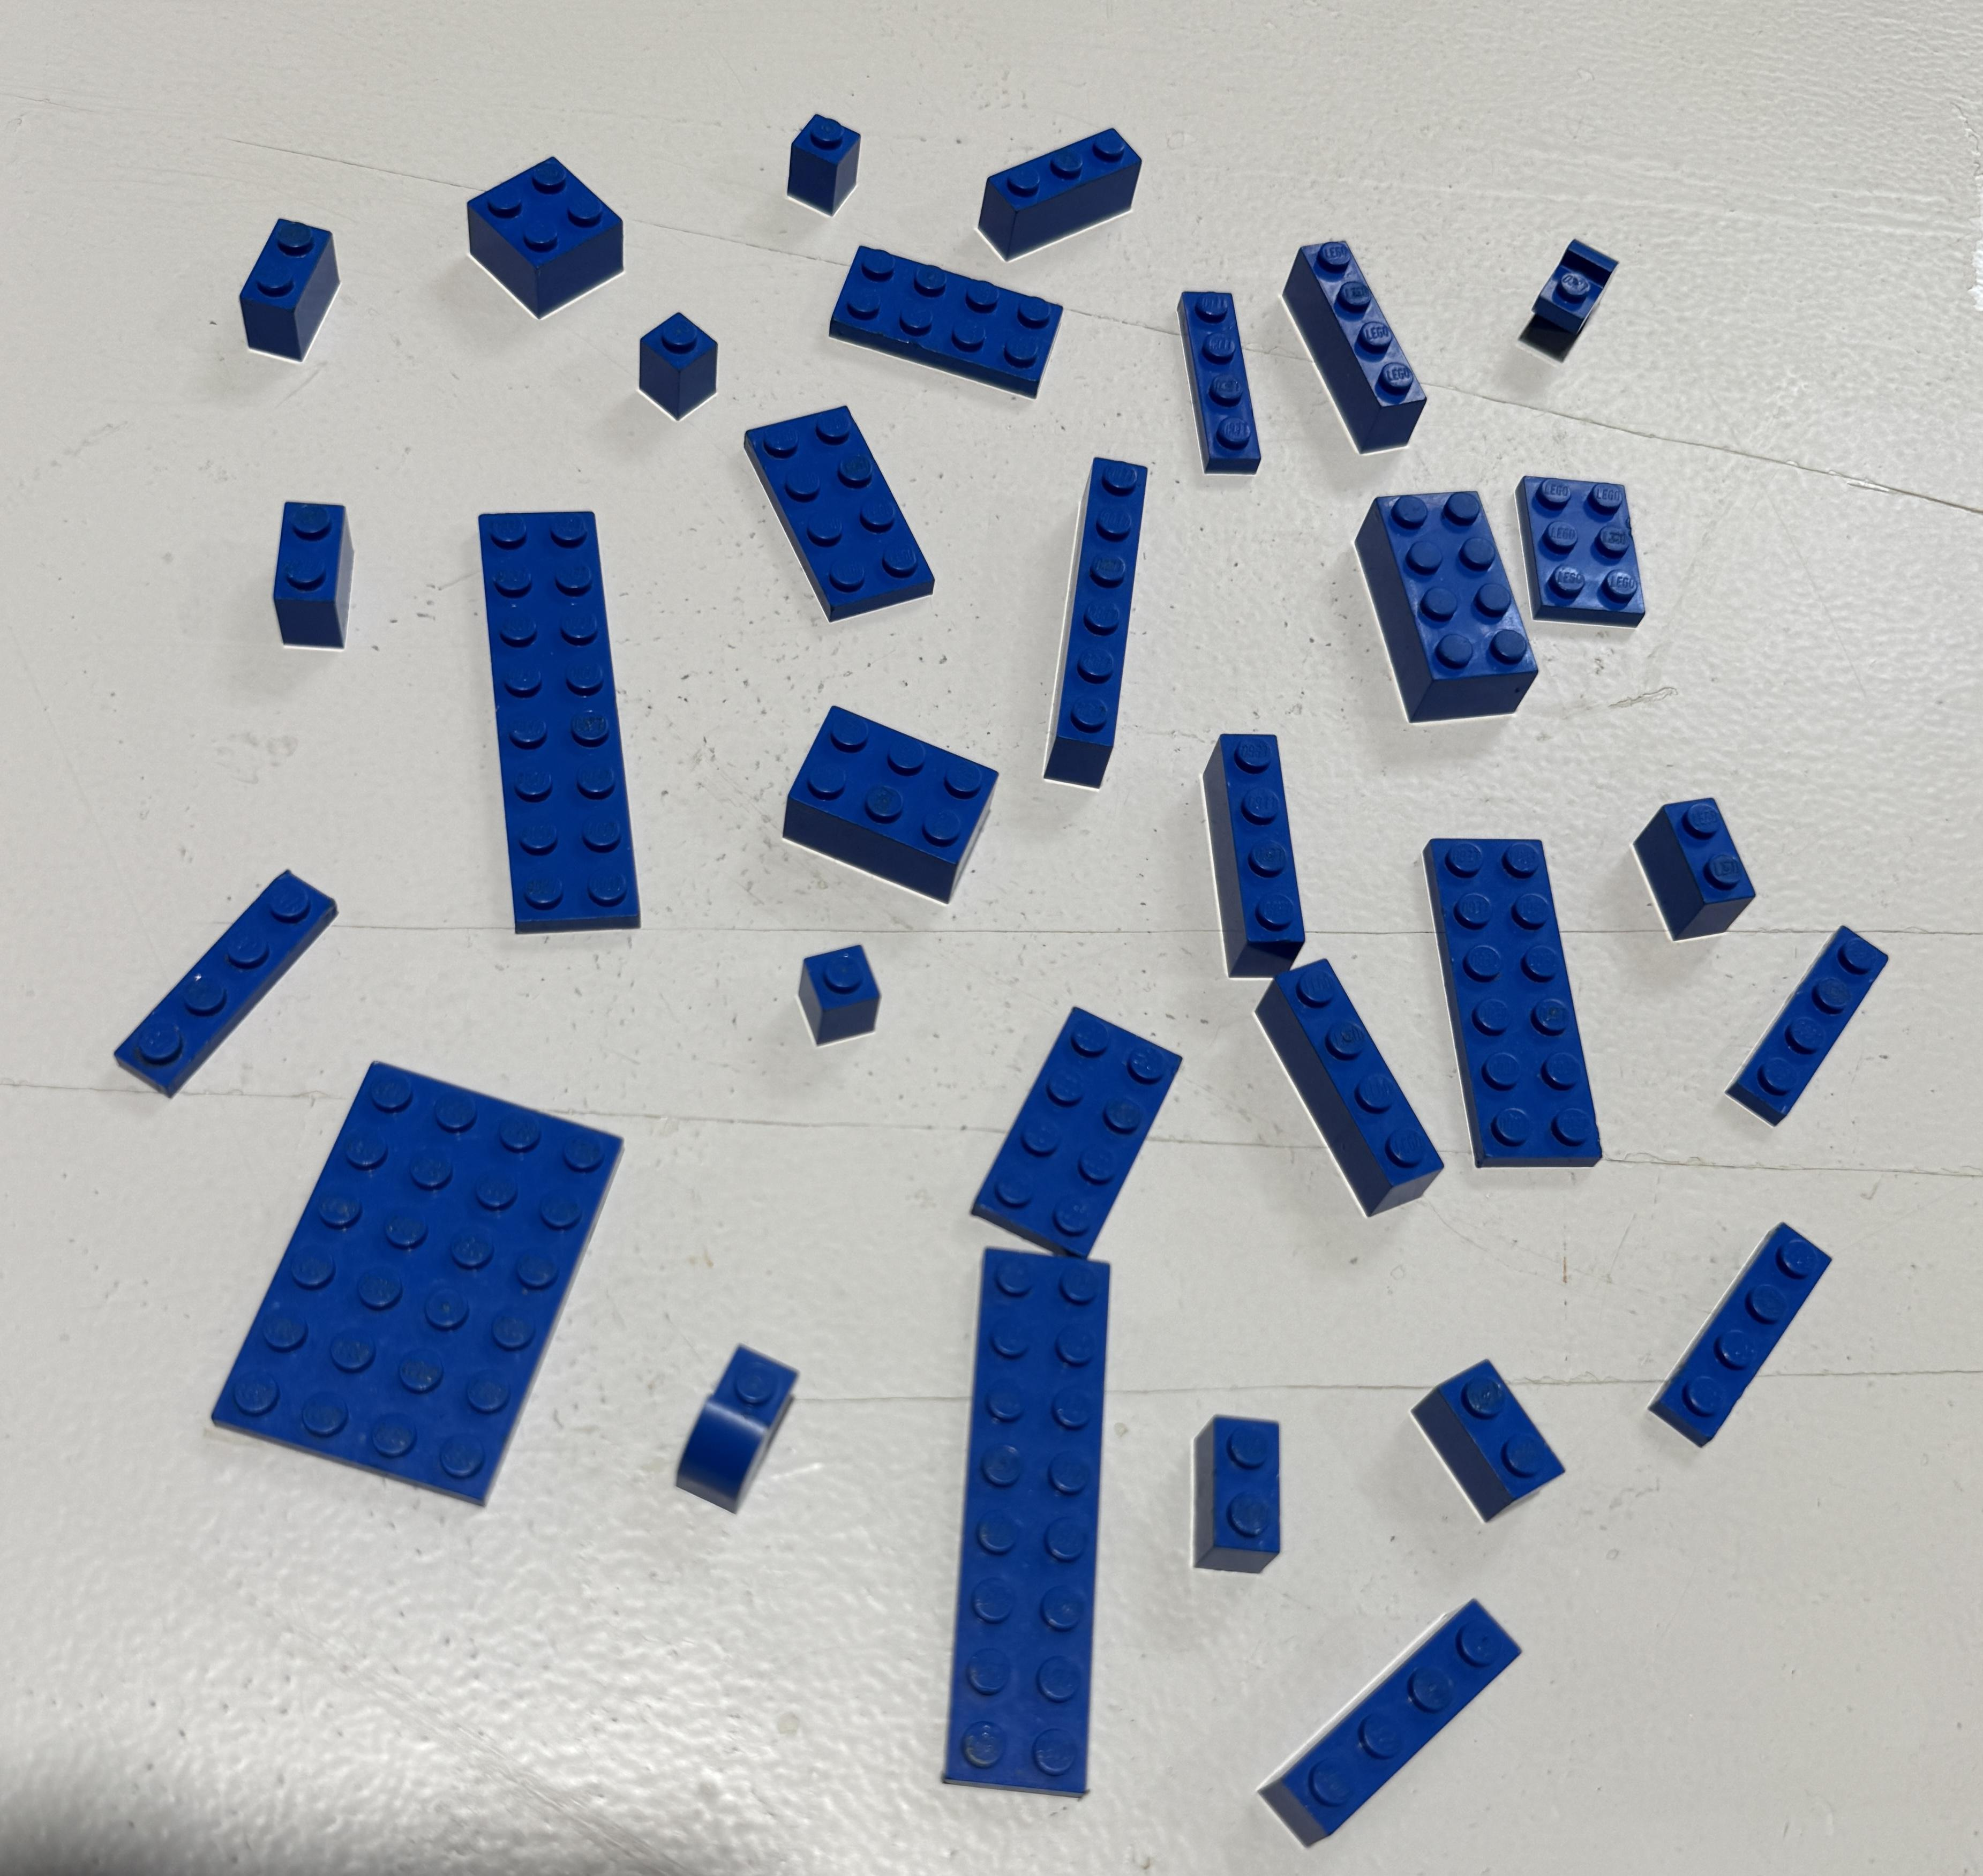brick_1x1: (753, 97, 883, 249), (772, 922, 911, 1058), (610, 291, 733, 439)
brick_1x2: (1609, 769, 1786, 1001), (1391, 1340, 1588, 1545), (1144, 1372, 1320, 1592), (201, 185, 363, 372), (254, 480, 370, 656)
brick_1x3: (961, 102, 1149, 275)
brick_1x4: (1216, 1585, 1556, 1855), (1227, 938, 1463, 1252), (1179, 681, 1327, 1005), (1280, 215, 1435, 467)
brick_2x2: (460, 138, 652, 328)
brick_2x3: (767, 670, 1021, 922)
brick_2x4: (1352, 469, 1546, 735)
